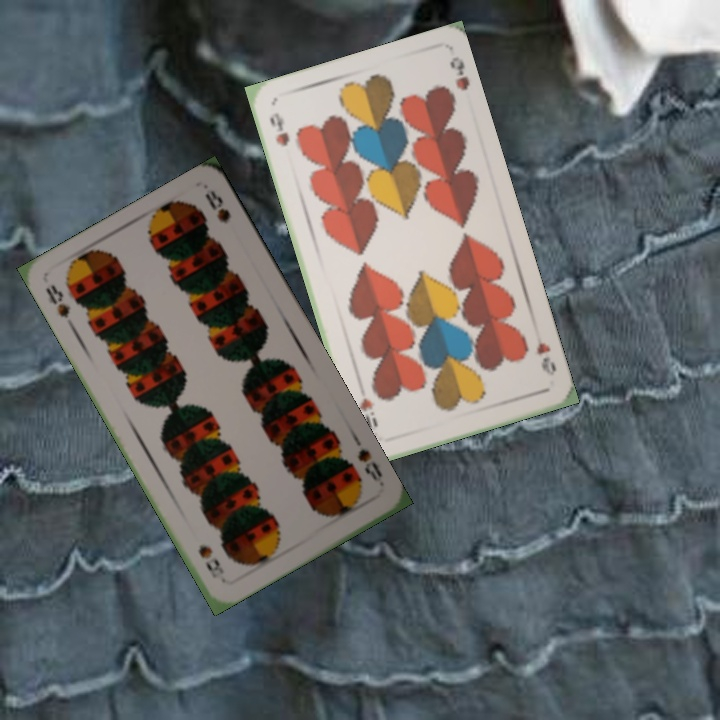H9: (532, 338, 559, 379), (265, 108, 292, 149)
S8: (41, 280, 78, 333), (353, 444, 385, 485)
